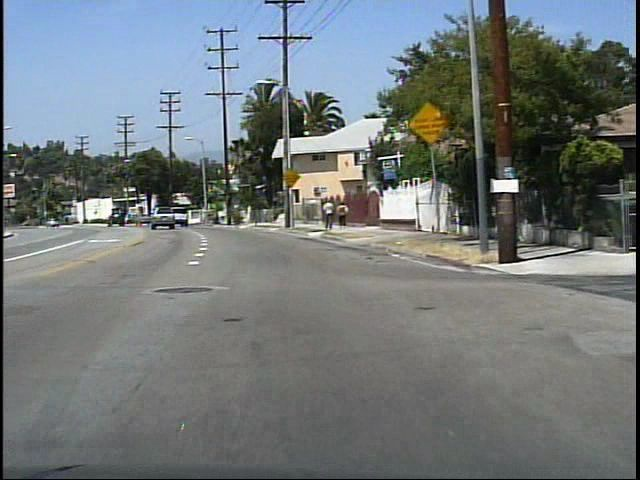person: (320, 196, 336, 233), (335, 200, 349, 230)
